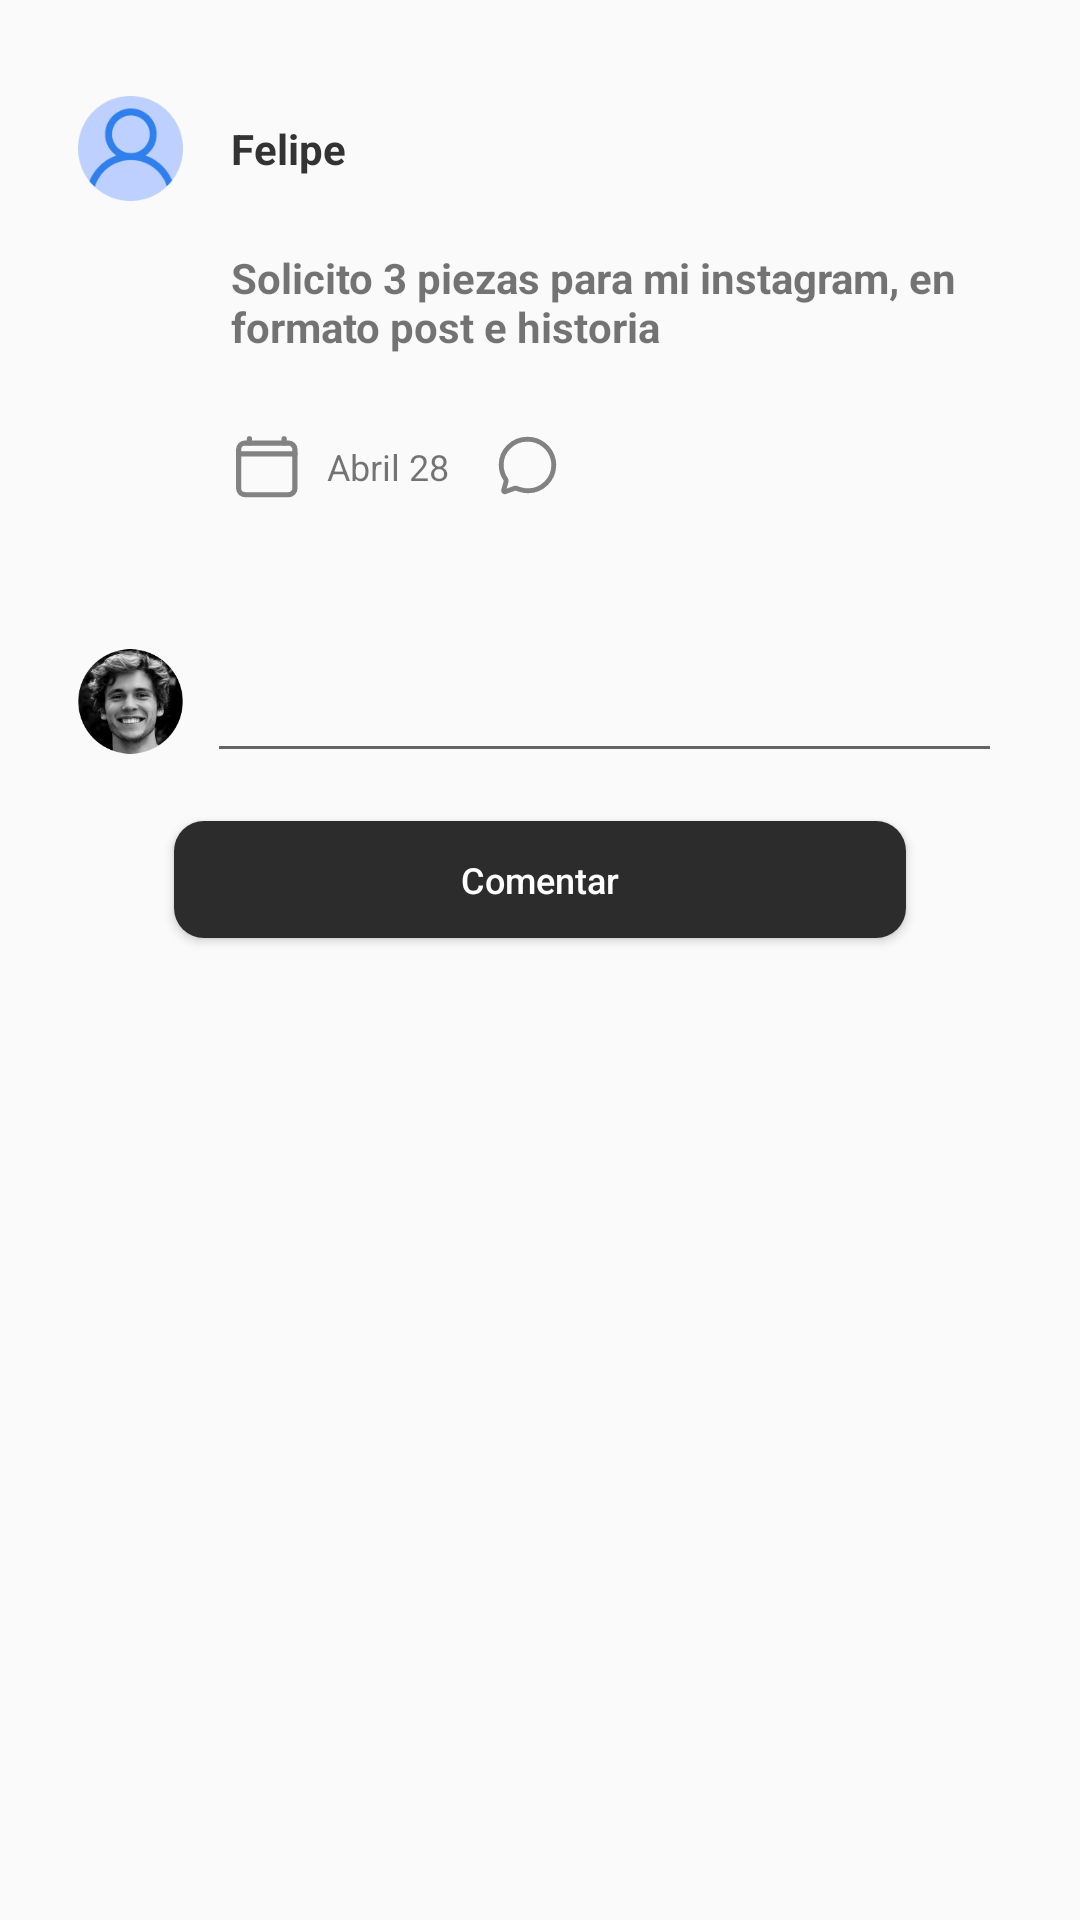

Icon click points for this 1080w x 1920h phone screenshot, format point (x, y):
calendar clear: point (267, 467)
coment: point (527, 465)
